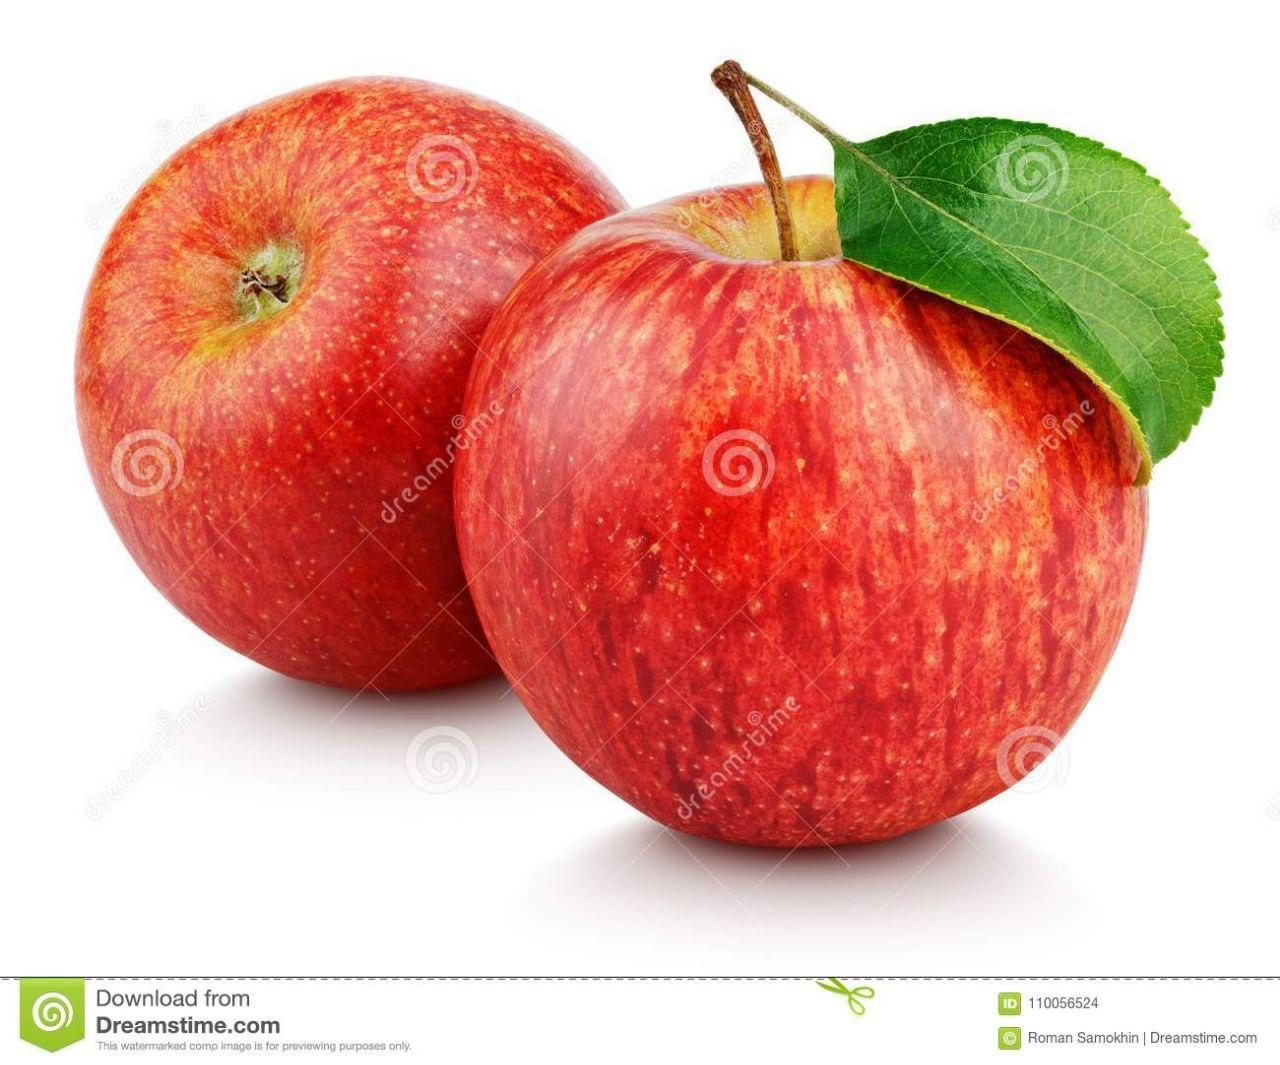Apple: (451, 159, 1153, 853), (80, 69, 633, 697)
